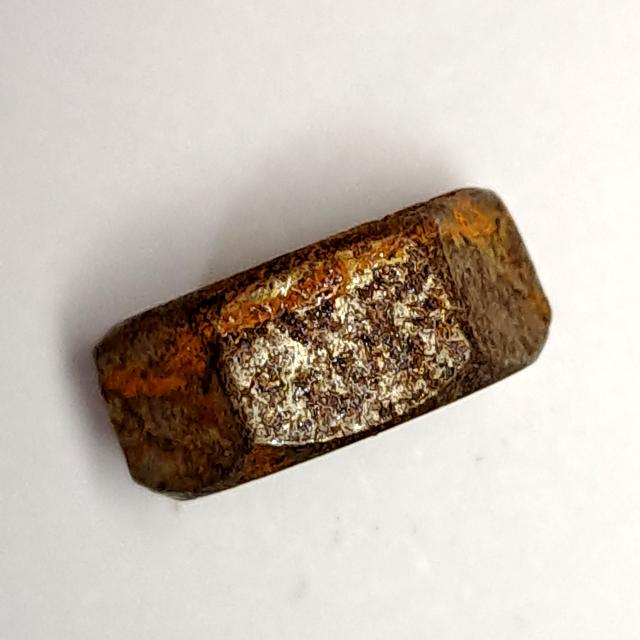Side_Rust: (77, 173, 566, 514)
